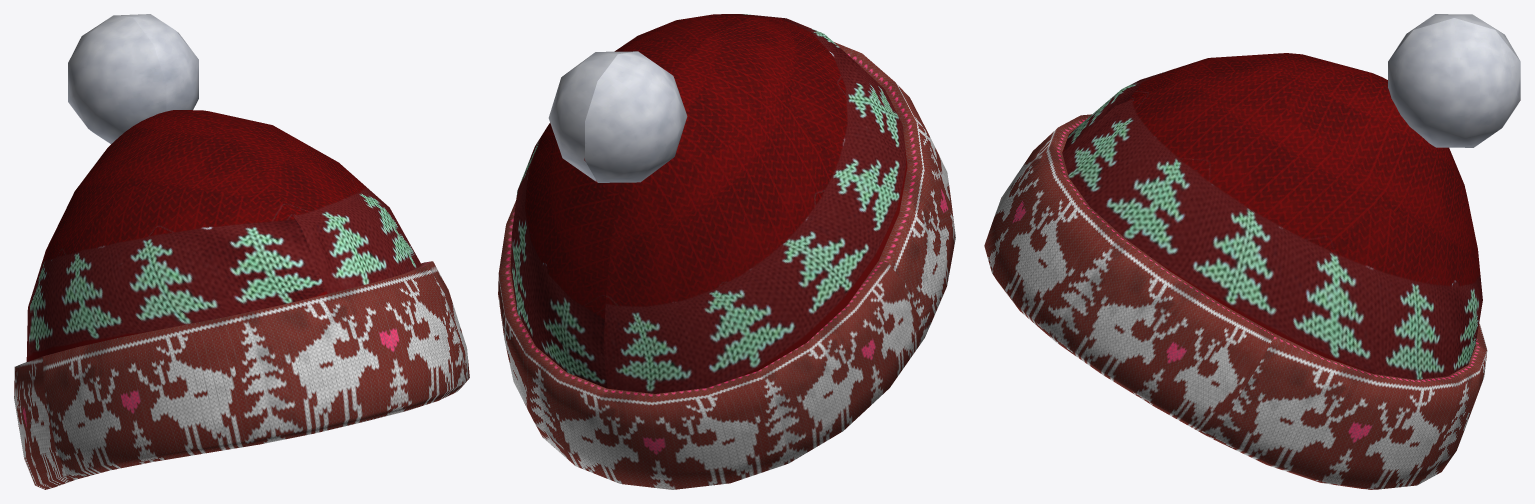
Rendered from redsha.glb.
The picture shows the model from 3 angles, left to right: view 1: azimuth 30°, elevation 25°; view 2: azimuth 150°, elevation 25°; view 3: azimuth 270°, elevation 25°; orthographic projection.
Parts seen in each view (by area): view 1: 1-_KnittedHat; view 2: 1-_KnittedHat; view 3: 1-_KnittedHat.
Boxes of the visible parts, x1=… form: 1-_KnittedHat: x1=14, y1=14, x2=469, y2=489; 1-_KnittedHat: x1=498, y1=14, x2=955, y2=489; 1-_KnittedHat: x1=984, y1=14, x2=1520, y2=489.
Size of the model in its own units: 2.93 by 3.19 by 3.55.
Materials: 1 (1 with a texture image).
